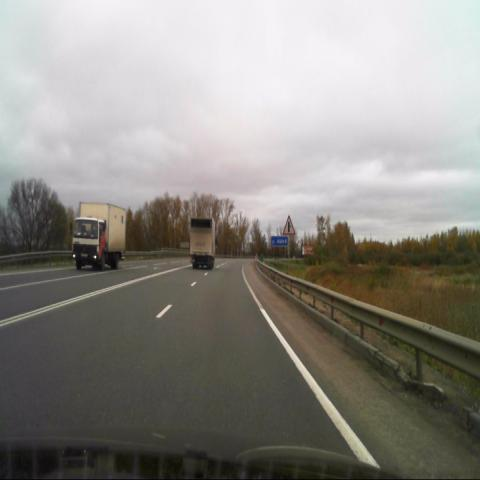2_3_2: (282, 214, 296, 234)
